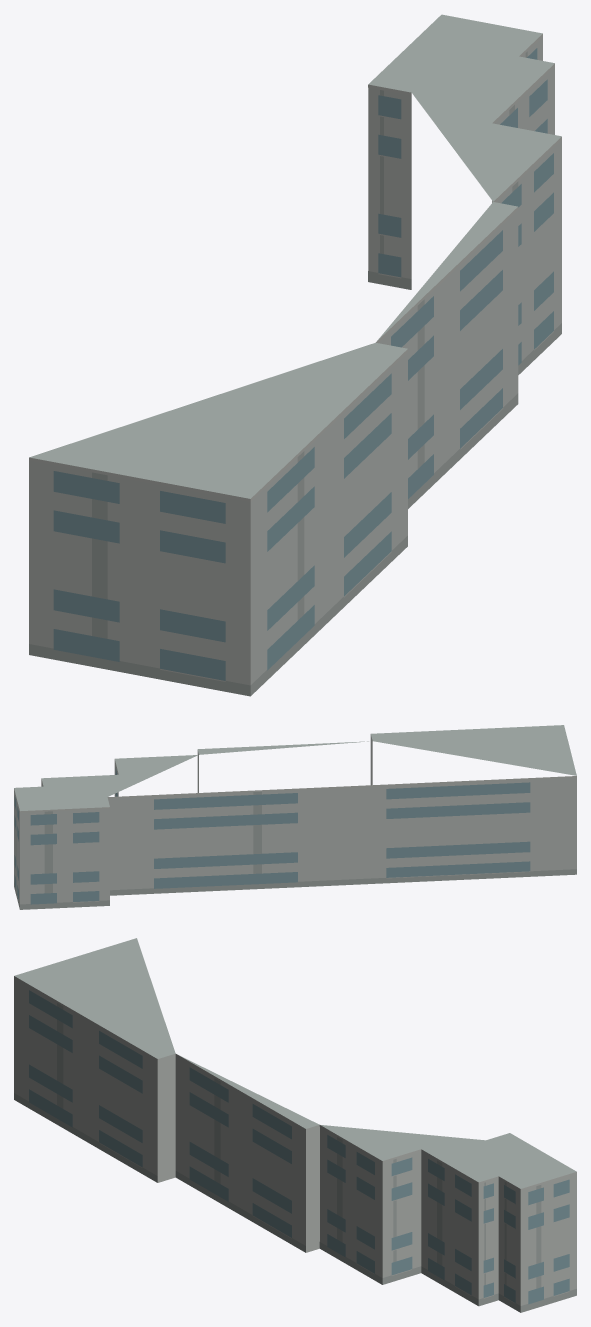
The model's file is residential-d5ad62ed-7f11-4754-8b92-ecfc427df83d.glb.
3 renders of one model, top to bottom at view 1: azimuth 30°, elevation 25°; view 2: azimuth 150°, elevation 25°; view 3: azimuth 270°, elevation 25°, orthographic. The views are drawn at different scales.
Parts seen in each view (by area): view 1: residential-d5ad62ed-7f11-4754-8b92-ecfc427df83d.tmp; view 2: residential-d5ad62ed-7f11-4754-8b92-ecfc427df83d.tmp; view 3: residential-d5ad62ed-7f11-4754-8b92-ecfc427df83d.tmp.
Boxes of the visible parts, <box> form: residential-d5ad62ed-7f11-4754-8b92-ecfc427df83d.tmp: <box>29,14,561,696</box>; residential-d5ad62ed-7f11-4754-8b92-ecfc427df83d.tmp: <box>14,725,576,909</box>; residential-d5ad62ed-7f11-4754-8b92-ecfc427df83d.tmp: <box>14,938,576,1312</box>.
Size of the model in its own units: 66.26 by 15.25 by 62.79.
